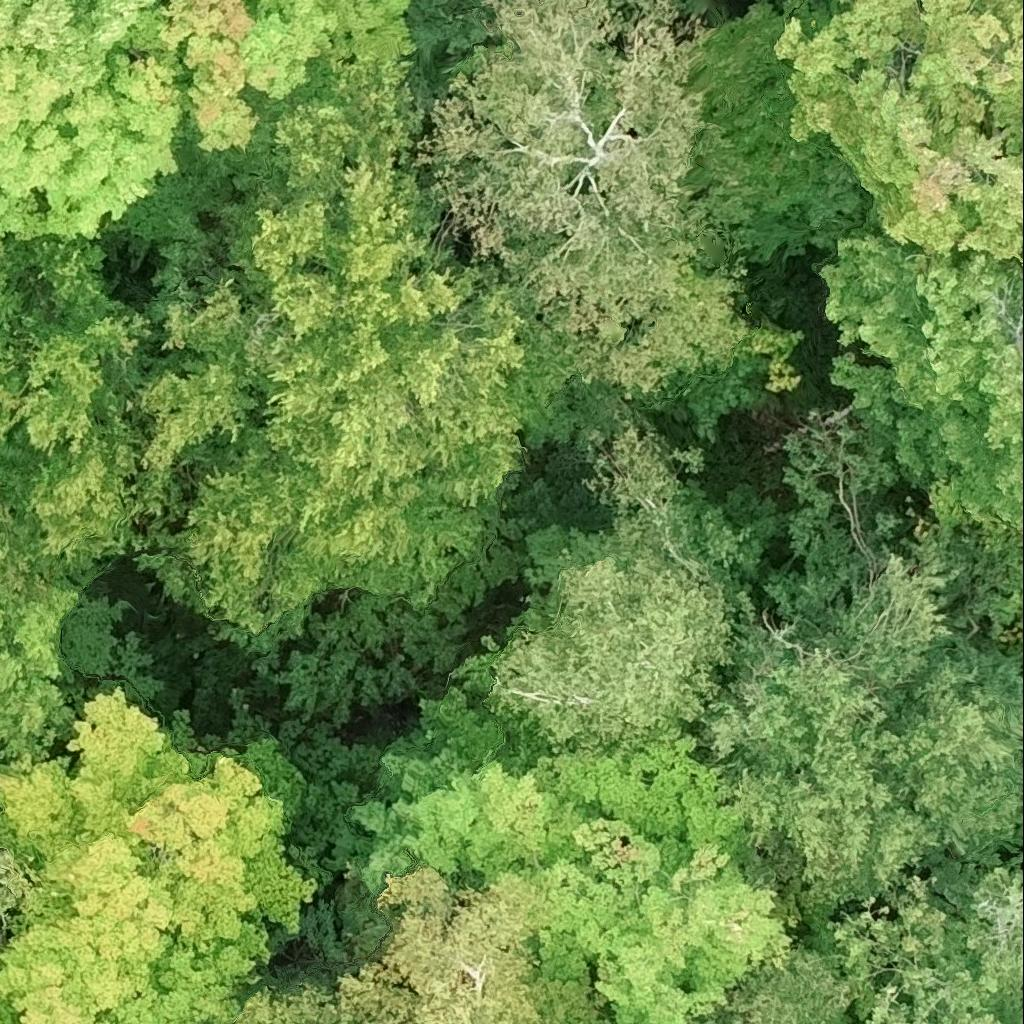crown: (139, 66, 526, 647), (419, 0, 745, 387), (391, 716, 796, 1023), (695, 559, 1023, 914), (0, 688, 317, 1023), (491, 428, 730, 757), (819, 234, 1023, 525), (0, 232, 148, 589), (0, 0, 187, 244), (166, 0, 419, 161), (336, 865, 559, 1023), (828, 870, 1023, 1023), (0, 577, 83, 769), (696, 949, 858, 1023), (0, 824, 35, 938), (235, 986, 338, 1023), (1023, 633, 1023, 634)
